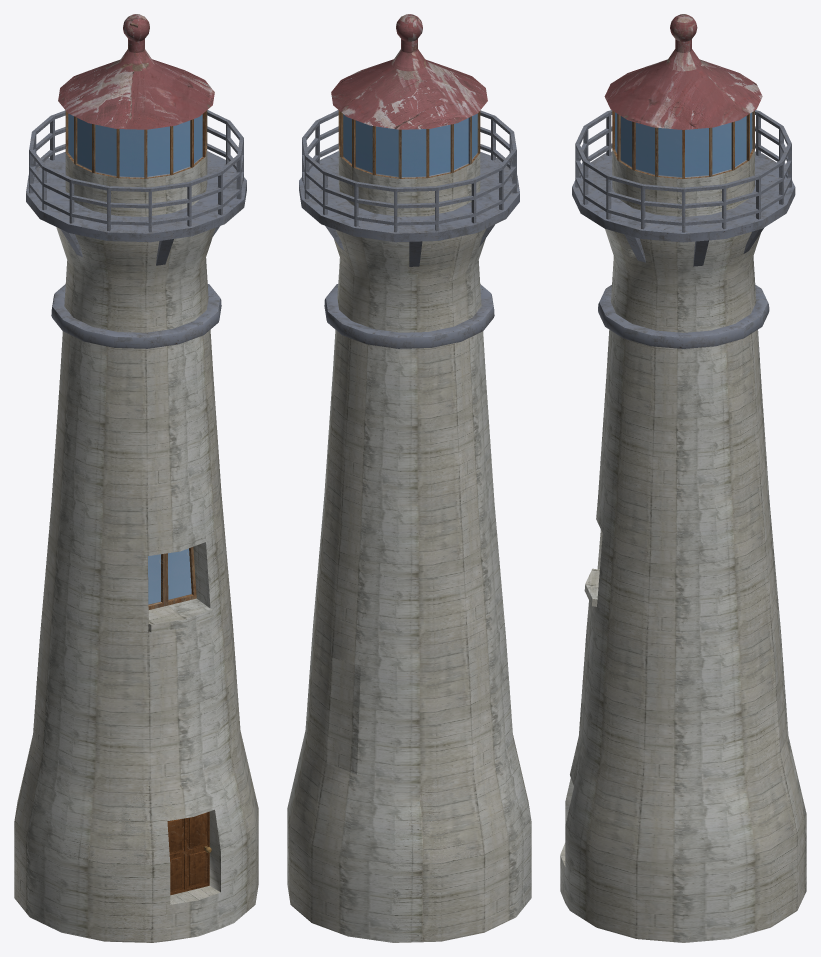
The model's file is Lighthouse.fbx.
3 renders of one model, left to right at view 1: azimuth 30°, elevation 25°; view 2: azimuth 150°, elevation 25°; view 3: azimuth 270°, elevation 25°, orthographic.
Visible parts, largest first — view 1: Lighthouse; view 2: Lighthouse; view 3: Lighthouse.
Boxes of the visible parts, x1=… form: Lighthouse: x1=14, y1=14, x2=258, y2=942; Lighthouse: x1=287, y1=14, x2=531, y2=942; Lighthouse: x1=560, y1=14, x2=806, y2=942.
Size of the model in its own units: 571 by 2240 by 572.
